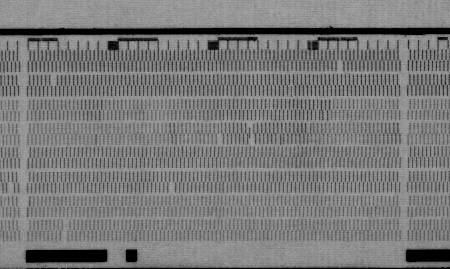Broken hole: (59, 220, 71, 242), (335, 60, 347, 74), (167, 181, 177, 196), (5, 182, 16, 195), (48, 74, 59, 86), (215, 133, 226, 145)
Oblique printing: (244, 122, 259, 147)
